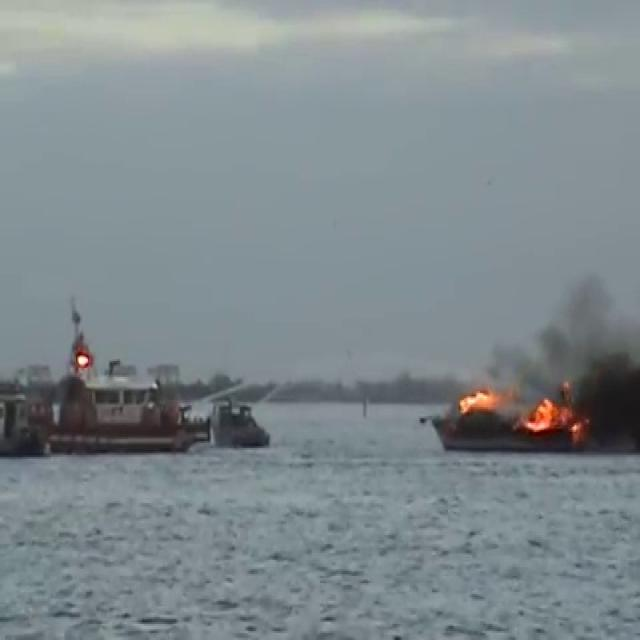Fire: (518, 396, 565, 439), (462, 378, 499, 416)
Smoke: (484, 261, 640, 402)
